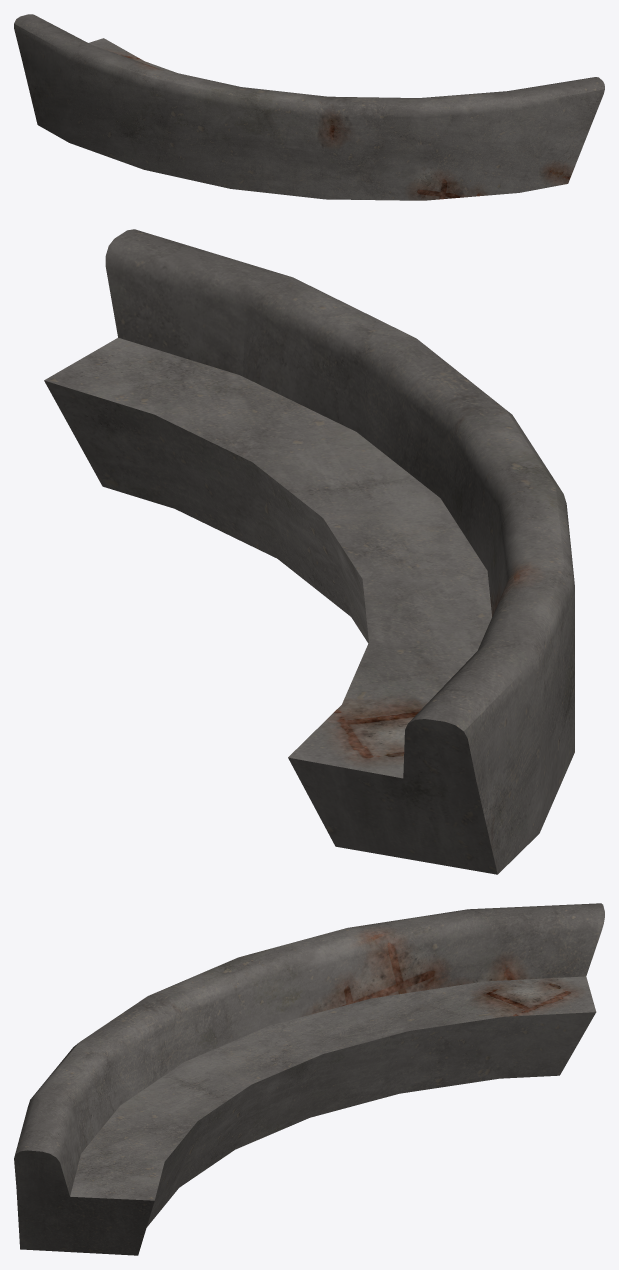
Rendered from concrete bench.fbx.
The picture shows the model from 3 angles, top to bottom: view 1: azimuth 30°, elevation 25°; view 2: azimuth 150°, elevation 25°; view 3: azimuth 270°, elevation 25°; orthographic projection. The views are drawn at different scales.
Parts seen in each view (by area): view 1: Cube.003; view 2: Cube.003; view 3: Cube.003.
Boxes of the visible parts, x1=… form: Cube.003: x1=14, y1=14, x2=604, y2=200; Cube.003: x1=44, y1=229, x2=574, y2=874; Cube.003: x1=14, y1=903, x2=604, y2=1255.
Size of the model in its own units: 672 by 156 by 666.
